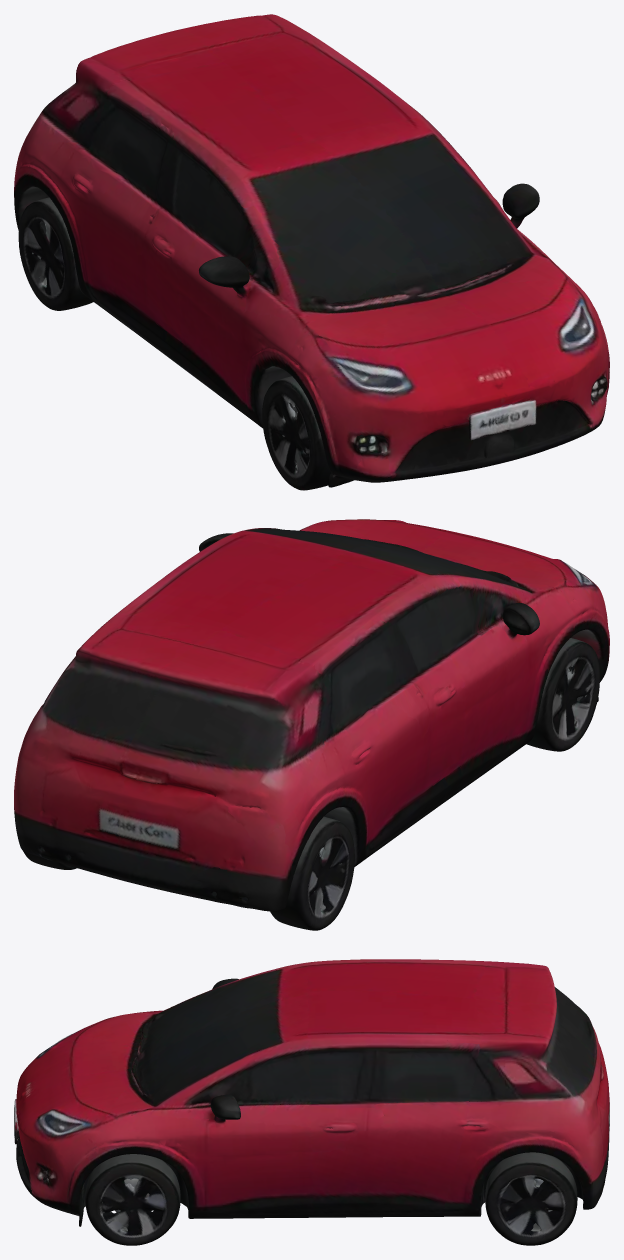
File: car.glb
3 renders of one model, top to bottom at view 1: azimuth 30°, elevation 25°; view 2: azimuth 150°, elevation 25°; view 3: azimuth 270°, elevation 25°, orthographic. The views are drawn at different scales.
Parts seen in each view (by area): view 1: tripo_node_75e40bc1-5a05-46bf-a51d-4d7802b3782a; view 2: tripo_node_75e40bc1-5a05-46bf-a51d-4d7802b3782a; view 3: tripo_node_75e40bc1-5a05-46bf-a51d-4d7802b3782a.
Boxes of the visible parts, x1,y1,x2,y2 form: tripo_node_75e40bc1-5a05-46bf-a51d-4d7802b3782a: (14,14,609,490); tripo_node_75e40bc1-5a05-46bf-a51d-4d7802b3782a: (14,519,609,930); tripo_node_75e40bc1-5a05-46bf-a51d-4d7802b3782a: (14,959,609,1245).
Size of the model in its own units: 0.5276 by 0.3621 by 0.9999.
Materials: 1 (1 with a texture image).
